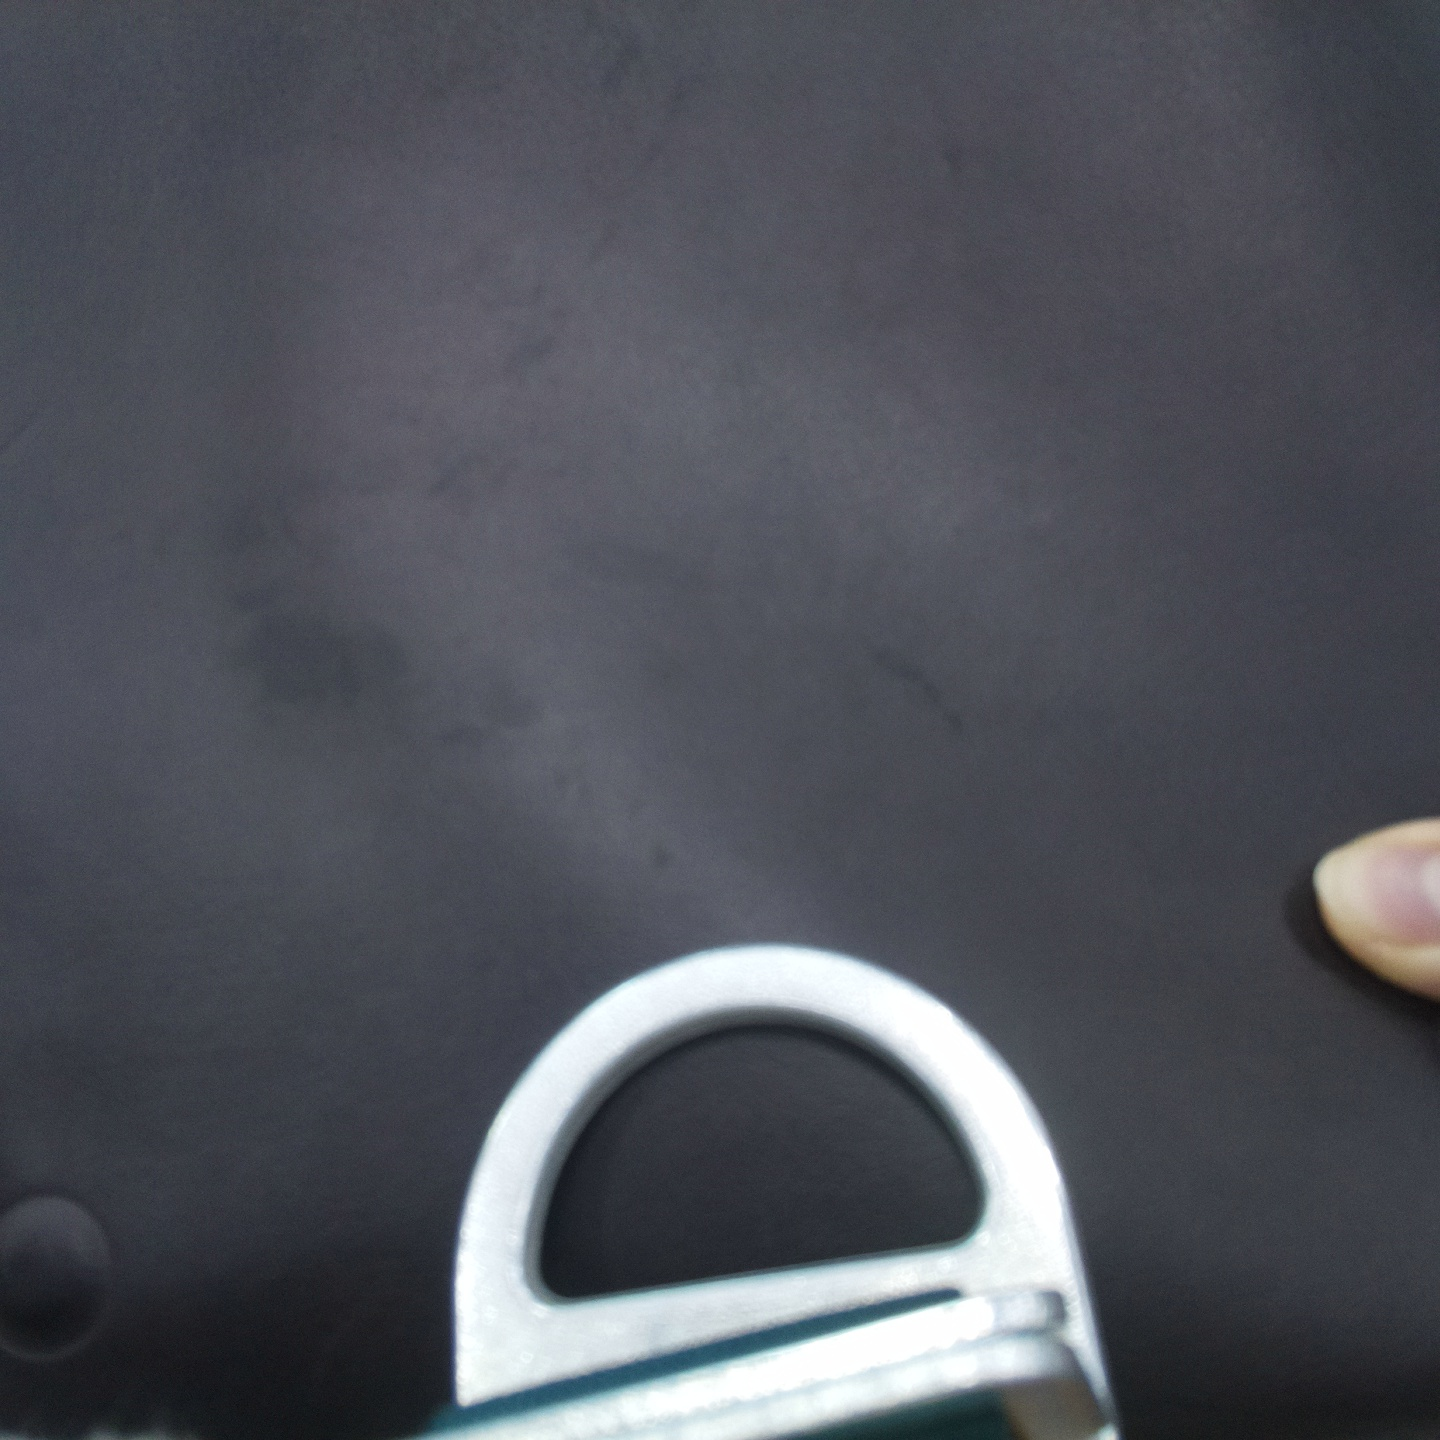UNSUCCESS: (438, 934, 1112, 1364)
